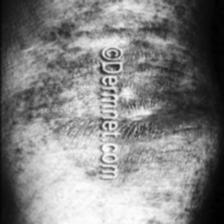Non-Cancerous Skin Condition: (6, 28, 94, 181), (124, 67, 208, 181), (79, 0, 184, 26), (124, 210, 184, 224)
